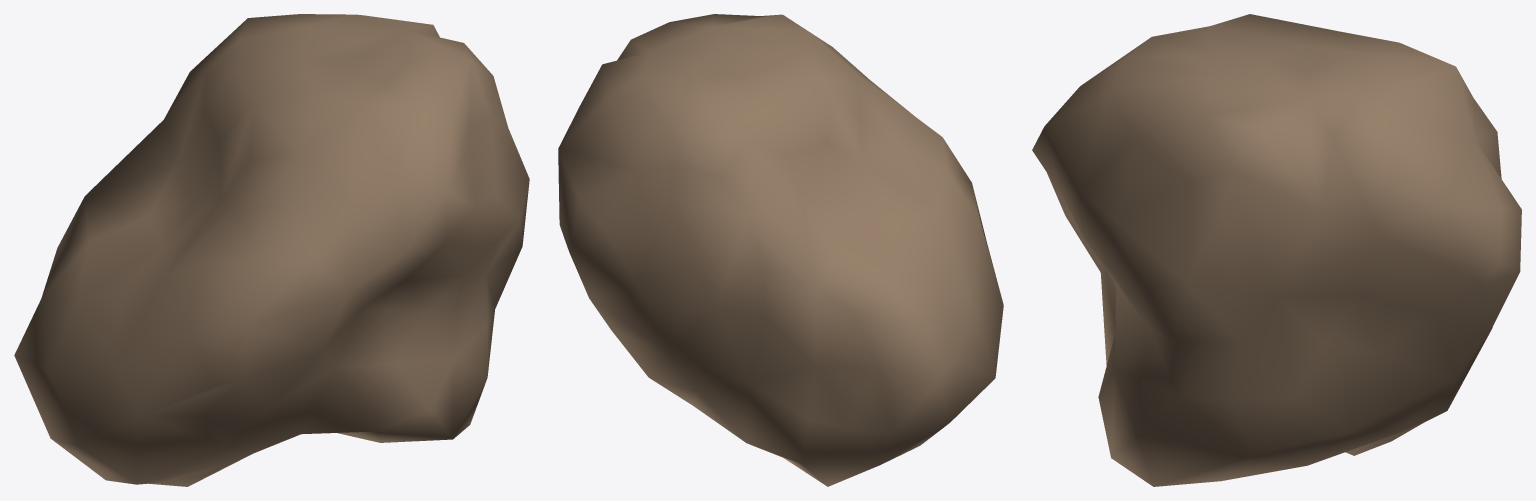
Rendered from rock.gltf.
3 views of the same model, side by side, from view 1: azimuth 30°, elevation 25°; view 2: azimuth 150°, elevation 25°; view 3: azimuth 270°, elevation 25° (orthographic). The views are drawn at different scales.
Visible parts, largest first — view 1: rock; view 2: rock; view 3: rock.
Part boxes in pixels (<box>): rock: <box>14,14,529,486</box>; rock: <box>558,14,1003,486</box>; rock: <box>1032,14,1521,486</box>.
Bounding box in the file's own units: 1.28 × 1.18 × 1.12.
